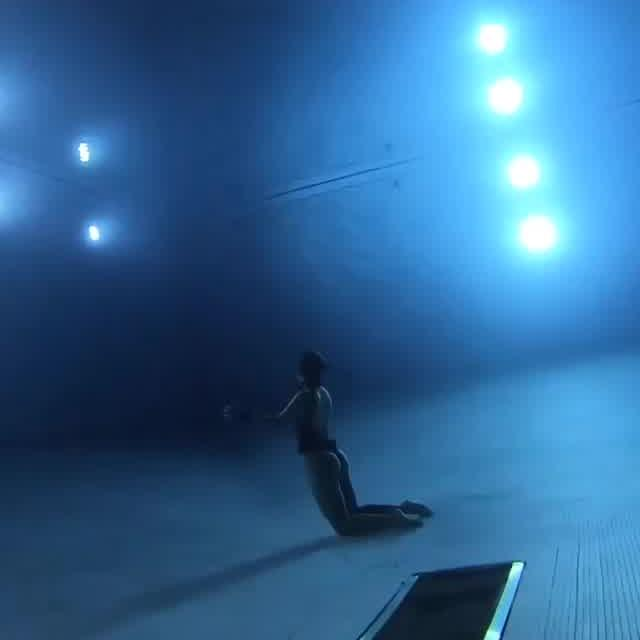human: (203, 329, 444, 555)
